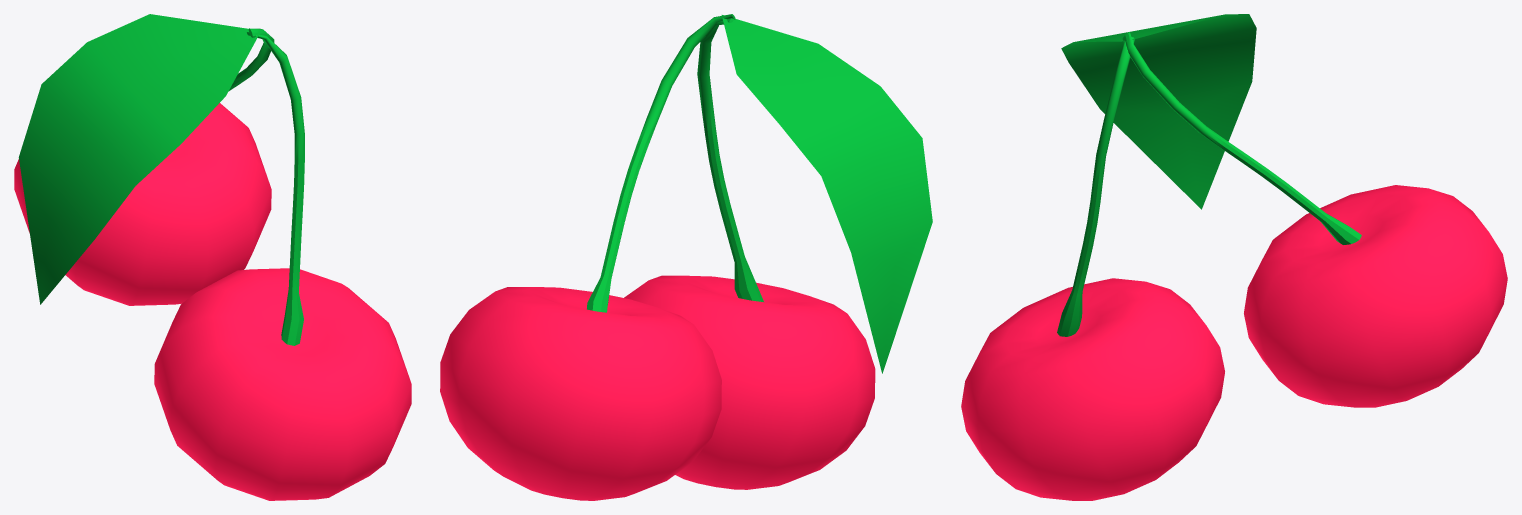
3 renders of one model, left to right at view 1: azimuth 30°, elevation 25°; view 2: azimuth 150°, elevation 25°; view 3: azimuth 270°, elevation 25°, orthographic. The views are drawn at different scales.
Visible parts, largest first — view 1: Object_0; view 2: Object_0; view 3: Object_0.
Boxes of the visible parts, box(x1,y1,x2,y2) form: Object_0: box(14, 14, 411, 500); Object_0: box(440, 14, 932, 500); Object_0: box(961, 14, 1507, 500).
Bounding box in the file's own units: 81.92 × 115 × 127.
